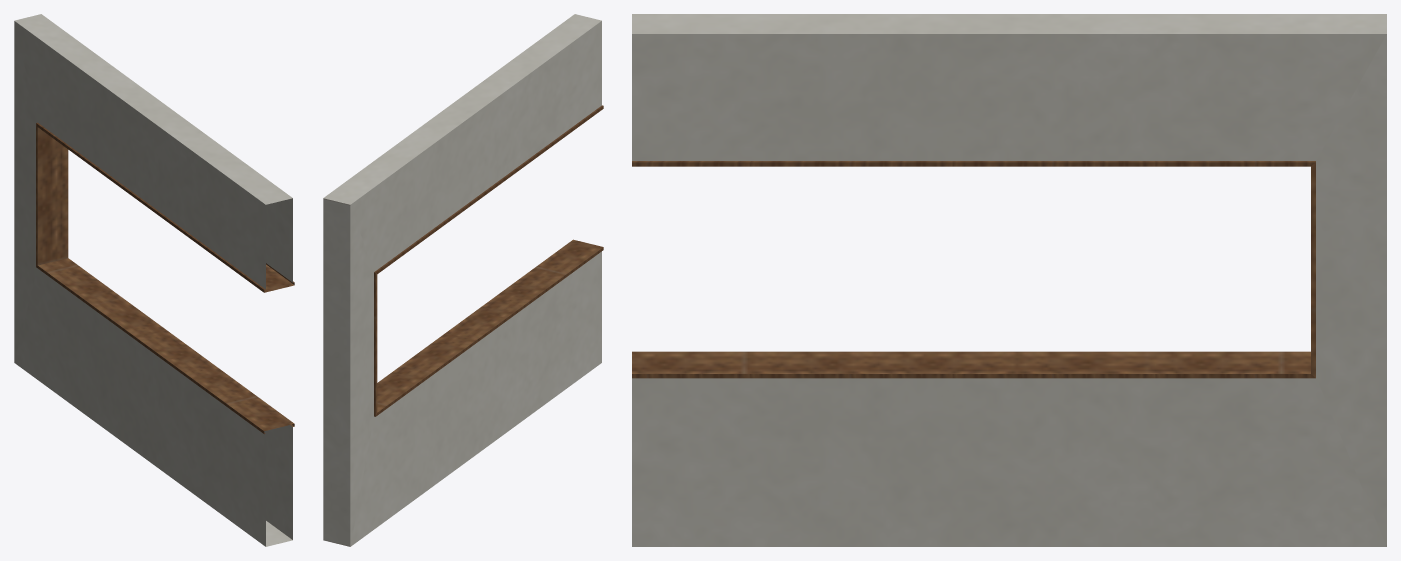
File: SM_Wall_03.fbx
The picture shows the model from 3 angles, left to right: view 1: azimuth 30°, elevation 25°; view 2: azimuth 150°, elevation 25°; view 3: azimuth 270°, elevation 25°; orthographic projection. The views are drawn at different scales.
Visible parts, largest first — view 1: SM_Wall_03; view 2: SM_Wall_03; view 3: SM_Wall_03.
Part boxes in pixels (box(x1,y1,x2,y2)): SM_Wall_03: box(14, 14, 294, 546); SM_Wall_03: box(323, 14, 603, 546); SM_Wall_03: box(632, 14, 1386, 546).
Size of the model in its own units: 28.09 by 300 by 400.
